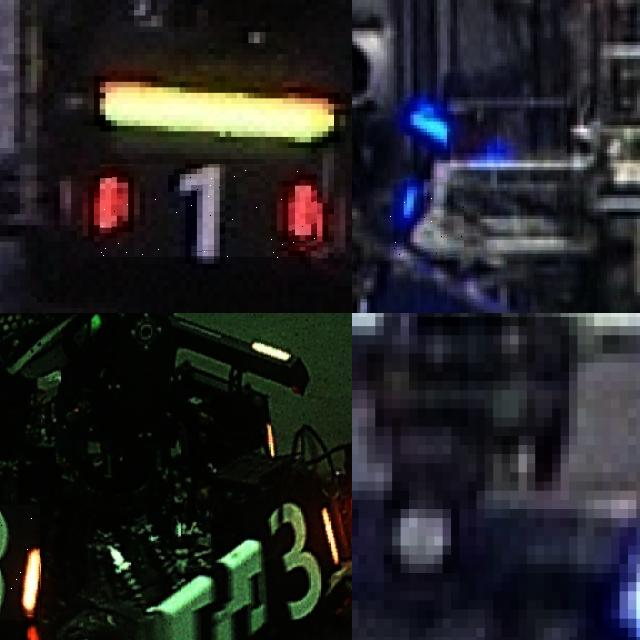B2: (390, 179, 464, 259)
R1: (100, 164, 317, 258)
R3: (0, 505, 40, 621)
